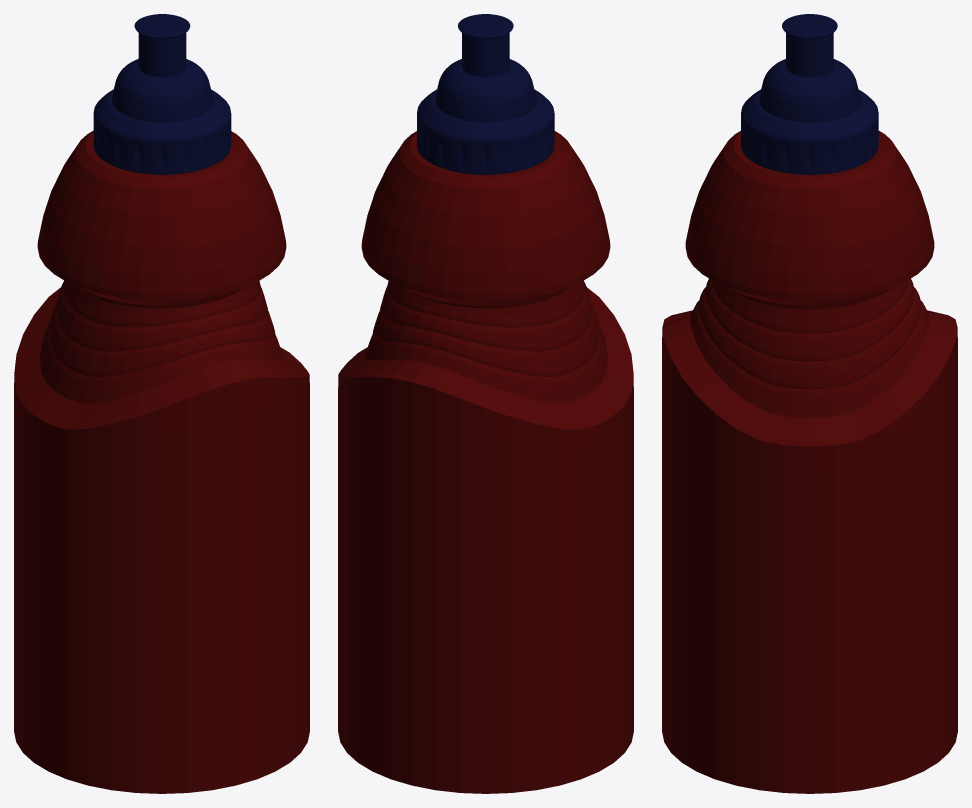
The model's file is ketchup_bottle.dae.
The picture shows the model from 3 angles, left to right: view 1: azimuth 30°, elevation 25°; view 2: azimuth 150°, elevation 25°; view 3: azimuth 270°, elevation 25°; orthographic projection.
Visible parts, largest first — view 1: waterbottl; view 2: waterbottl; view 3: waterbottl.
Part boxes in pixels (x1,y1,x2,y2): waterbottl: (14,14,309,793); waterbottl: (338,14,633,793); waterbottl: (662,14,957,793).
Size of the model in its own units: 19.39 by 19.39 by 51.45.
